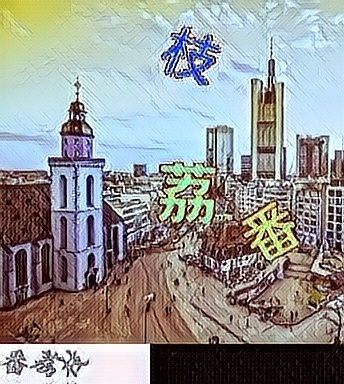B7AC: (239, 198, 299, 262)
C0F3: (154, 163, 214, 227)
D6A6: (161, 19, 221, 83)
